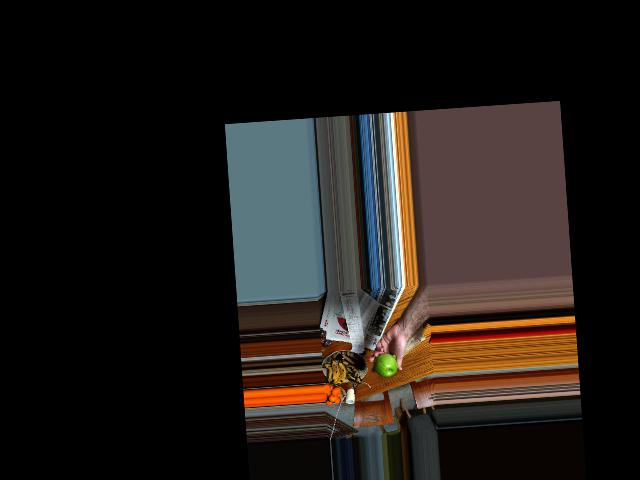apple: (372, 349, 400, 380)
